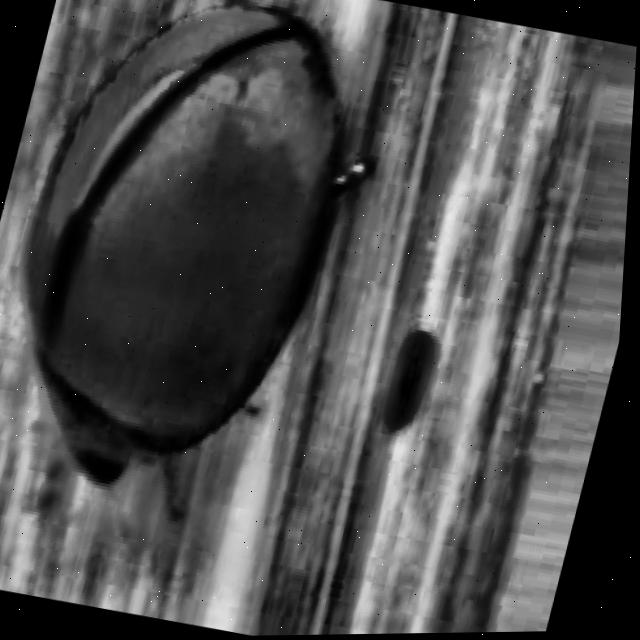Ladybug: (0, 0, 465, 640)
